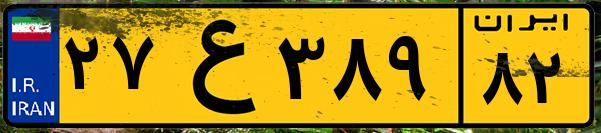2: (57, 26, 110, 100), (525, 38, 570, 115)
3: (270, 28, 330, 110)
7: (110, 28, 158, 98)
8: (330, 28, 385, 110), (475, 38, 525, 113)
9: (385, 28, 445, 110)
ع: (158, 12, 270, 120)
